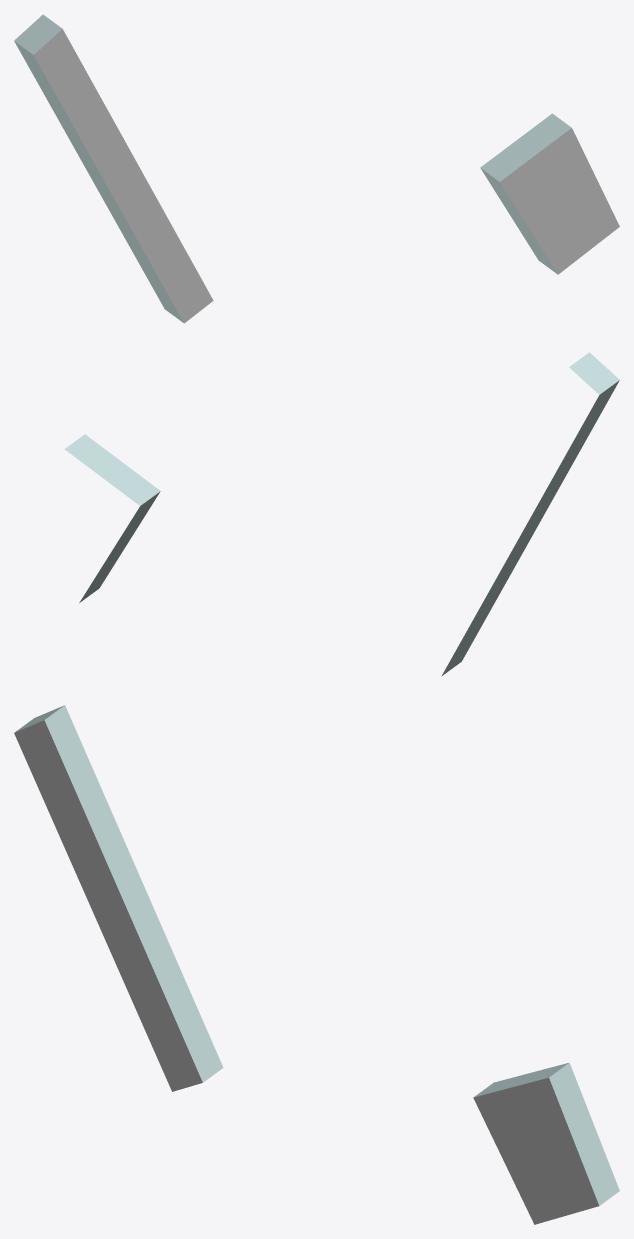
3 views of the same model, one above another, from view 1: azimuth 30°, elevation 25°; view 2: azimuth 150°, elevation 25°; view 3: azimuth 330°, elevation 25° (orthographic). The views are drawn at different scales.
Parts seen in each view (by area): view 1: 0_3_2_2_1_1_1_2_1; view 2: 0_3_2_2_1_1_1_2_1; view 3: 0_3_2_2_1_1_1_2_1.
Part boxes in pixels (x1,y1,x2,y2): 0_3_2_2_1_1_1_2_1: (14,14,619,323); 0_3_2_2_1_1_1_2_1: (64,352,619,676); 0_3_2_2_1_1_1_2_1: (14,705,619,1224).
Bounding box in the file's own units: 50.5 × 29.78 × 5.19.
